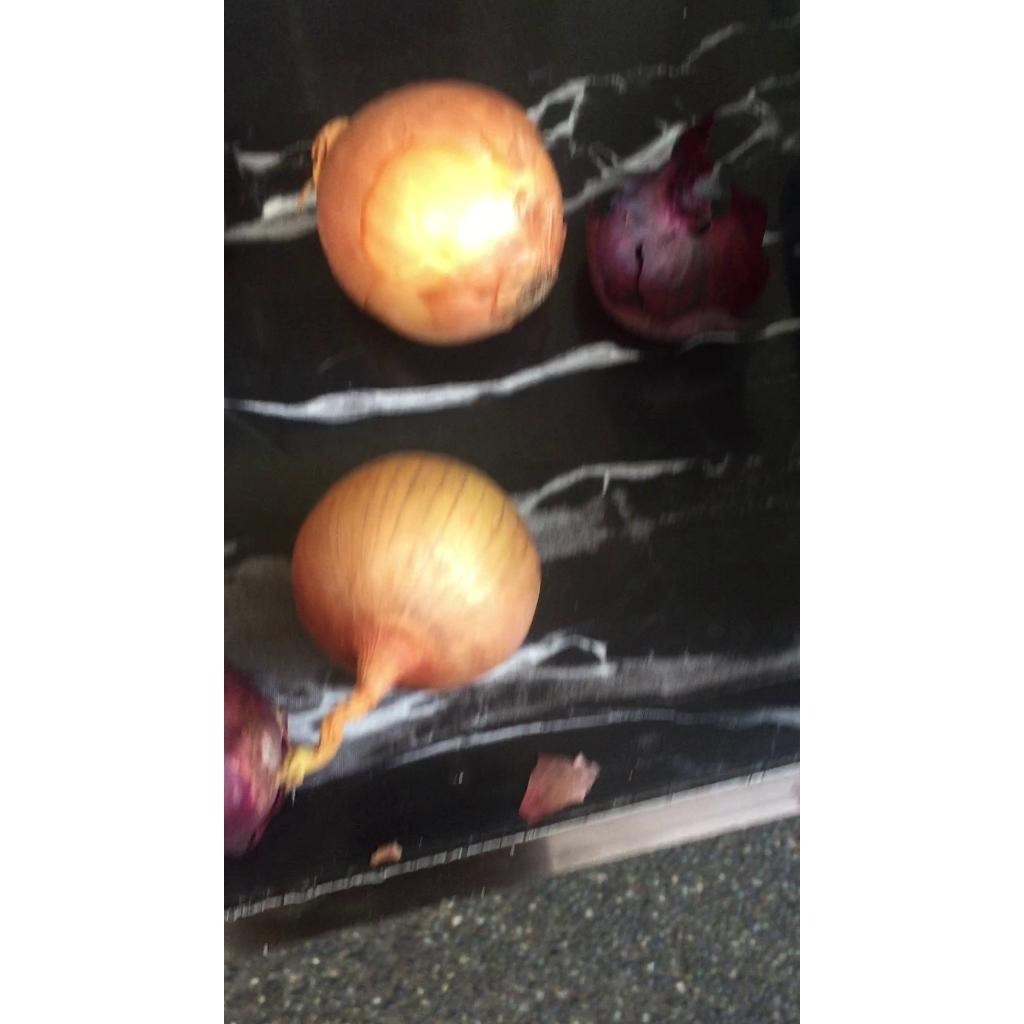Onion: (282, 452, 540, 791), (312, 80, 565, 344), (224, 666, 286, 858)
